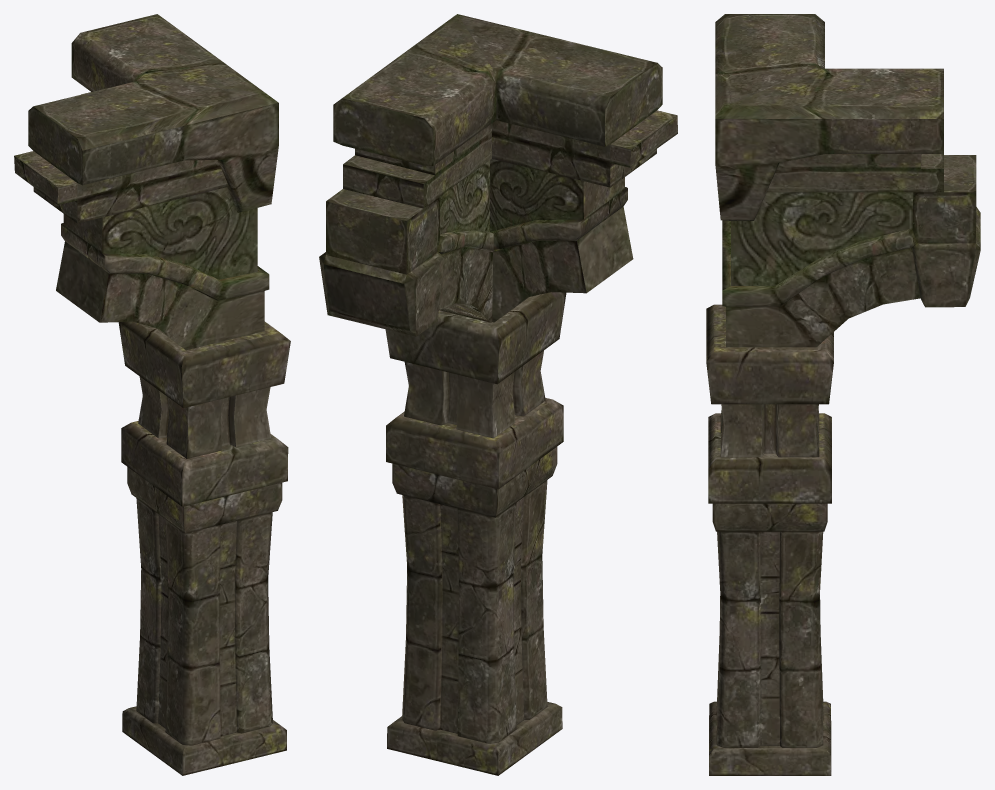
Rendered from Arch_Alley_07_c-transformed.glb.
3 views of the same model, side by side, from view 1: azimuth 30°, elevation 25°; view 2: azimuth 150°, elevation 25°; view 3: azimuth 270°, elevation 25° (orthographic). The views are drawn at different scales.
Parts seen in each view (by area): view 1: default; view 2: default; view 3: default.
Boxes of the visible parts, box(x1,y1,x2,y2) form: default: box(14, 14, 290, 775); default: box(319, 14, 677, 775); default: box(706, 14, 980, 775).
Bounding box in the file's own units: 2.25 × 6.3 × 2.36.
2 materials, 2 textured.
